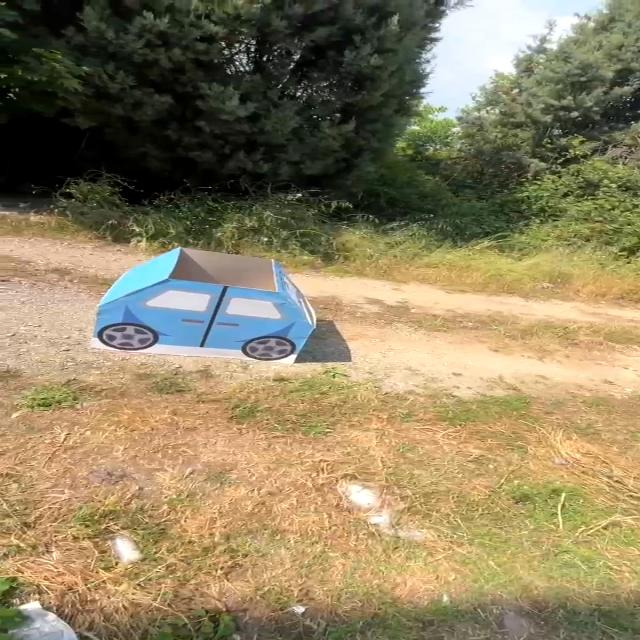blue_car: (73, 245, 333, 375)
